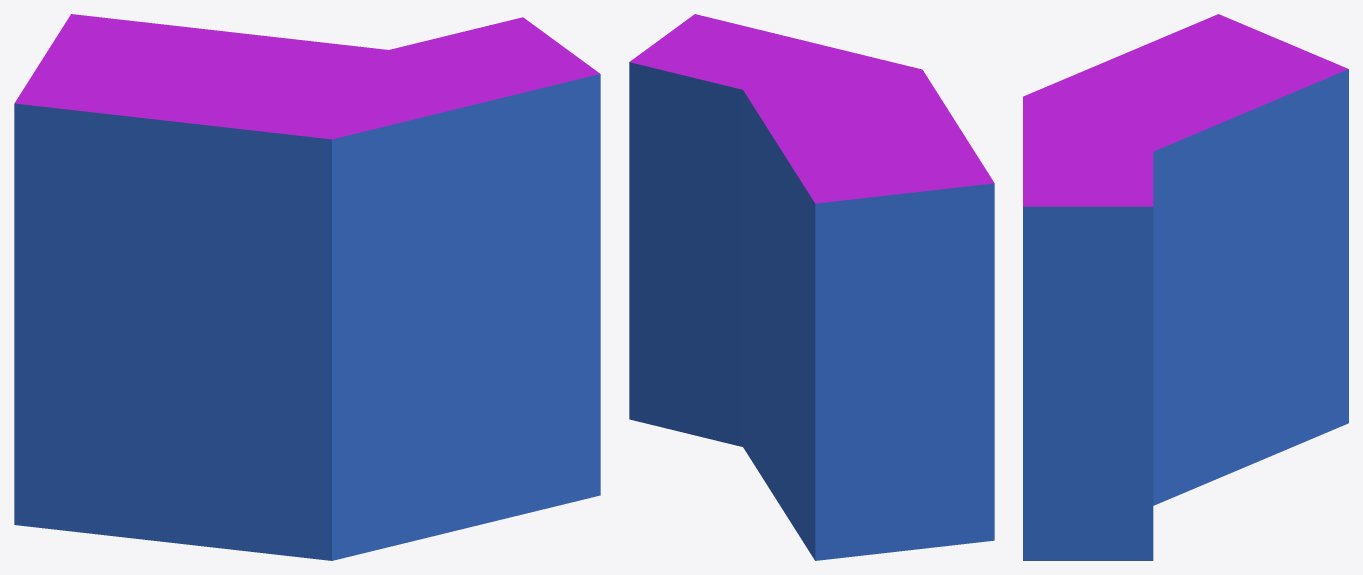
File: walls_type_10.glb
The picture shows the model from 3 angles, left to right: view 1: azimuth 30°, elevation 25°; view 2: azimuth 150°, elevation 25°; view 3: azimuth 270°, elevation 25°; orthographic projection. The views are drawn at different scales.
Visible parts, largest first — view 1: Type_10; view 2: Type_10; view 3: Type_10.
Part boxes in pixels (x1,y1,x2,y2): Type_10: [14, 14, 600, 560]; Type_10: [629, 14, 994, 560]; Type_10: [1023, 14, 1348, 560].
Size of the model in its own units: 1.17 by 1 by 0.8333.
